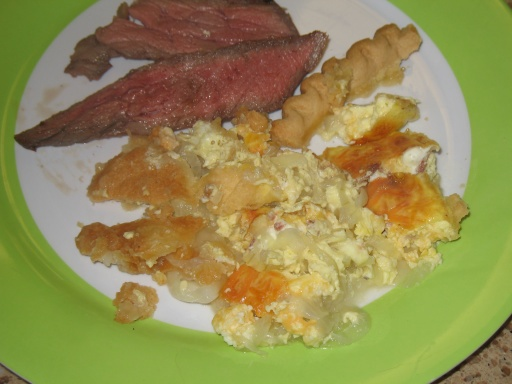background: (11, 0, 377, 209), (38, 25, 126, 193)
